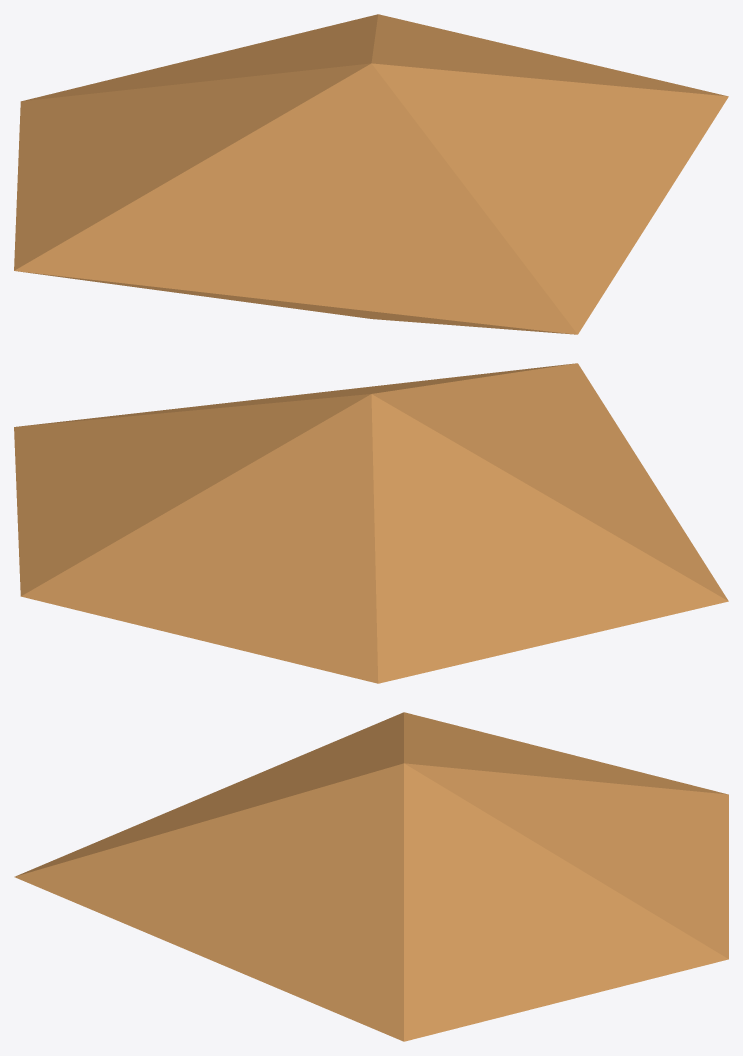
File: Mendiane.glb
The picture shows the model from 3 angles, top to bottom: view 1: azimuth 30°, elevation 25°; view 2: azimuth 150°, elevation 25°; view 3: azimuth 270°, elevation 25°; orthographic projection. The views are drawn at different scales.
Parts seen in each view (by area): view 1: Mendiane_50; view 2: Mendiane_50; view 3: Mendiane_50.
Boxes of the visible parts, <box> form: Mendiane_50: <box>14,14,728,334</box>; Mendiane_50: <box>14,363,728,683</box>; Mendiane_50: <box>14,712,728,1041</box>.
Bounding box in the file's own units: 2.08 × 0.7119 × 1.91.
